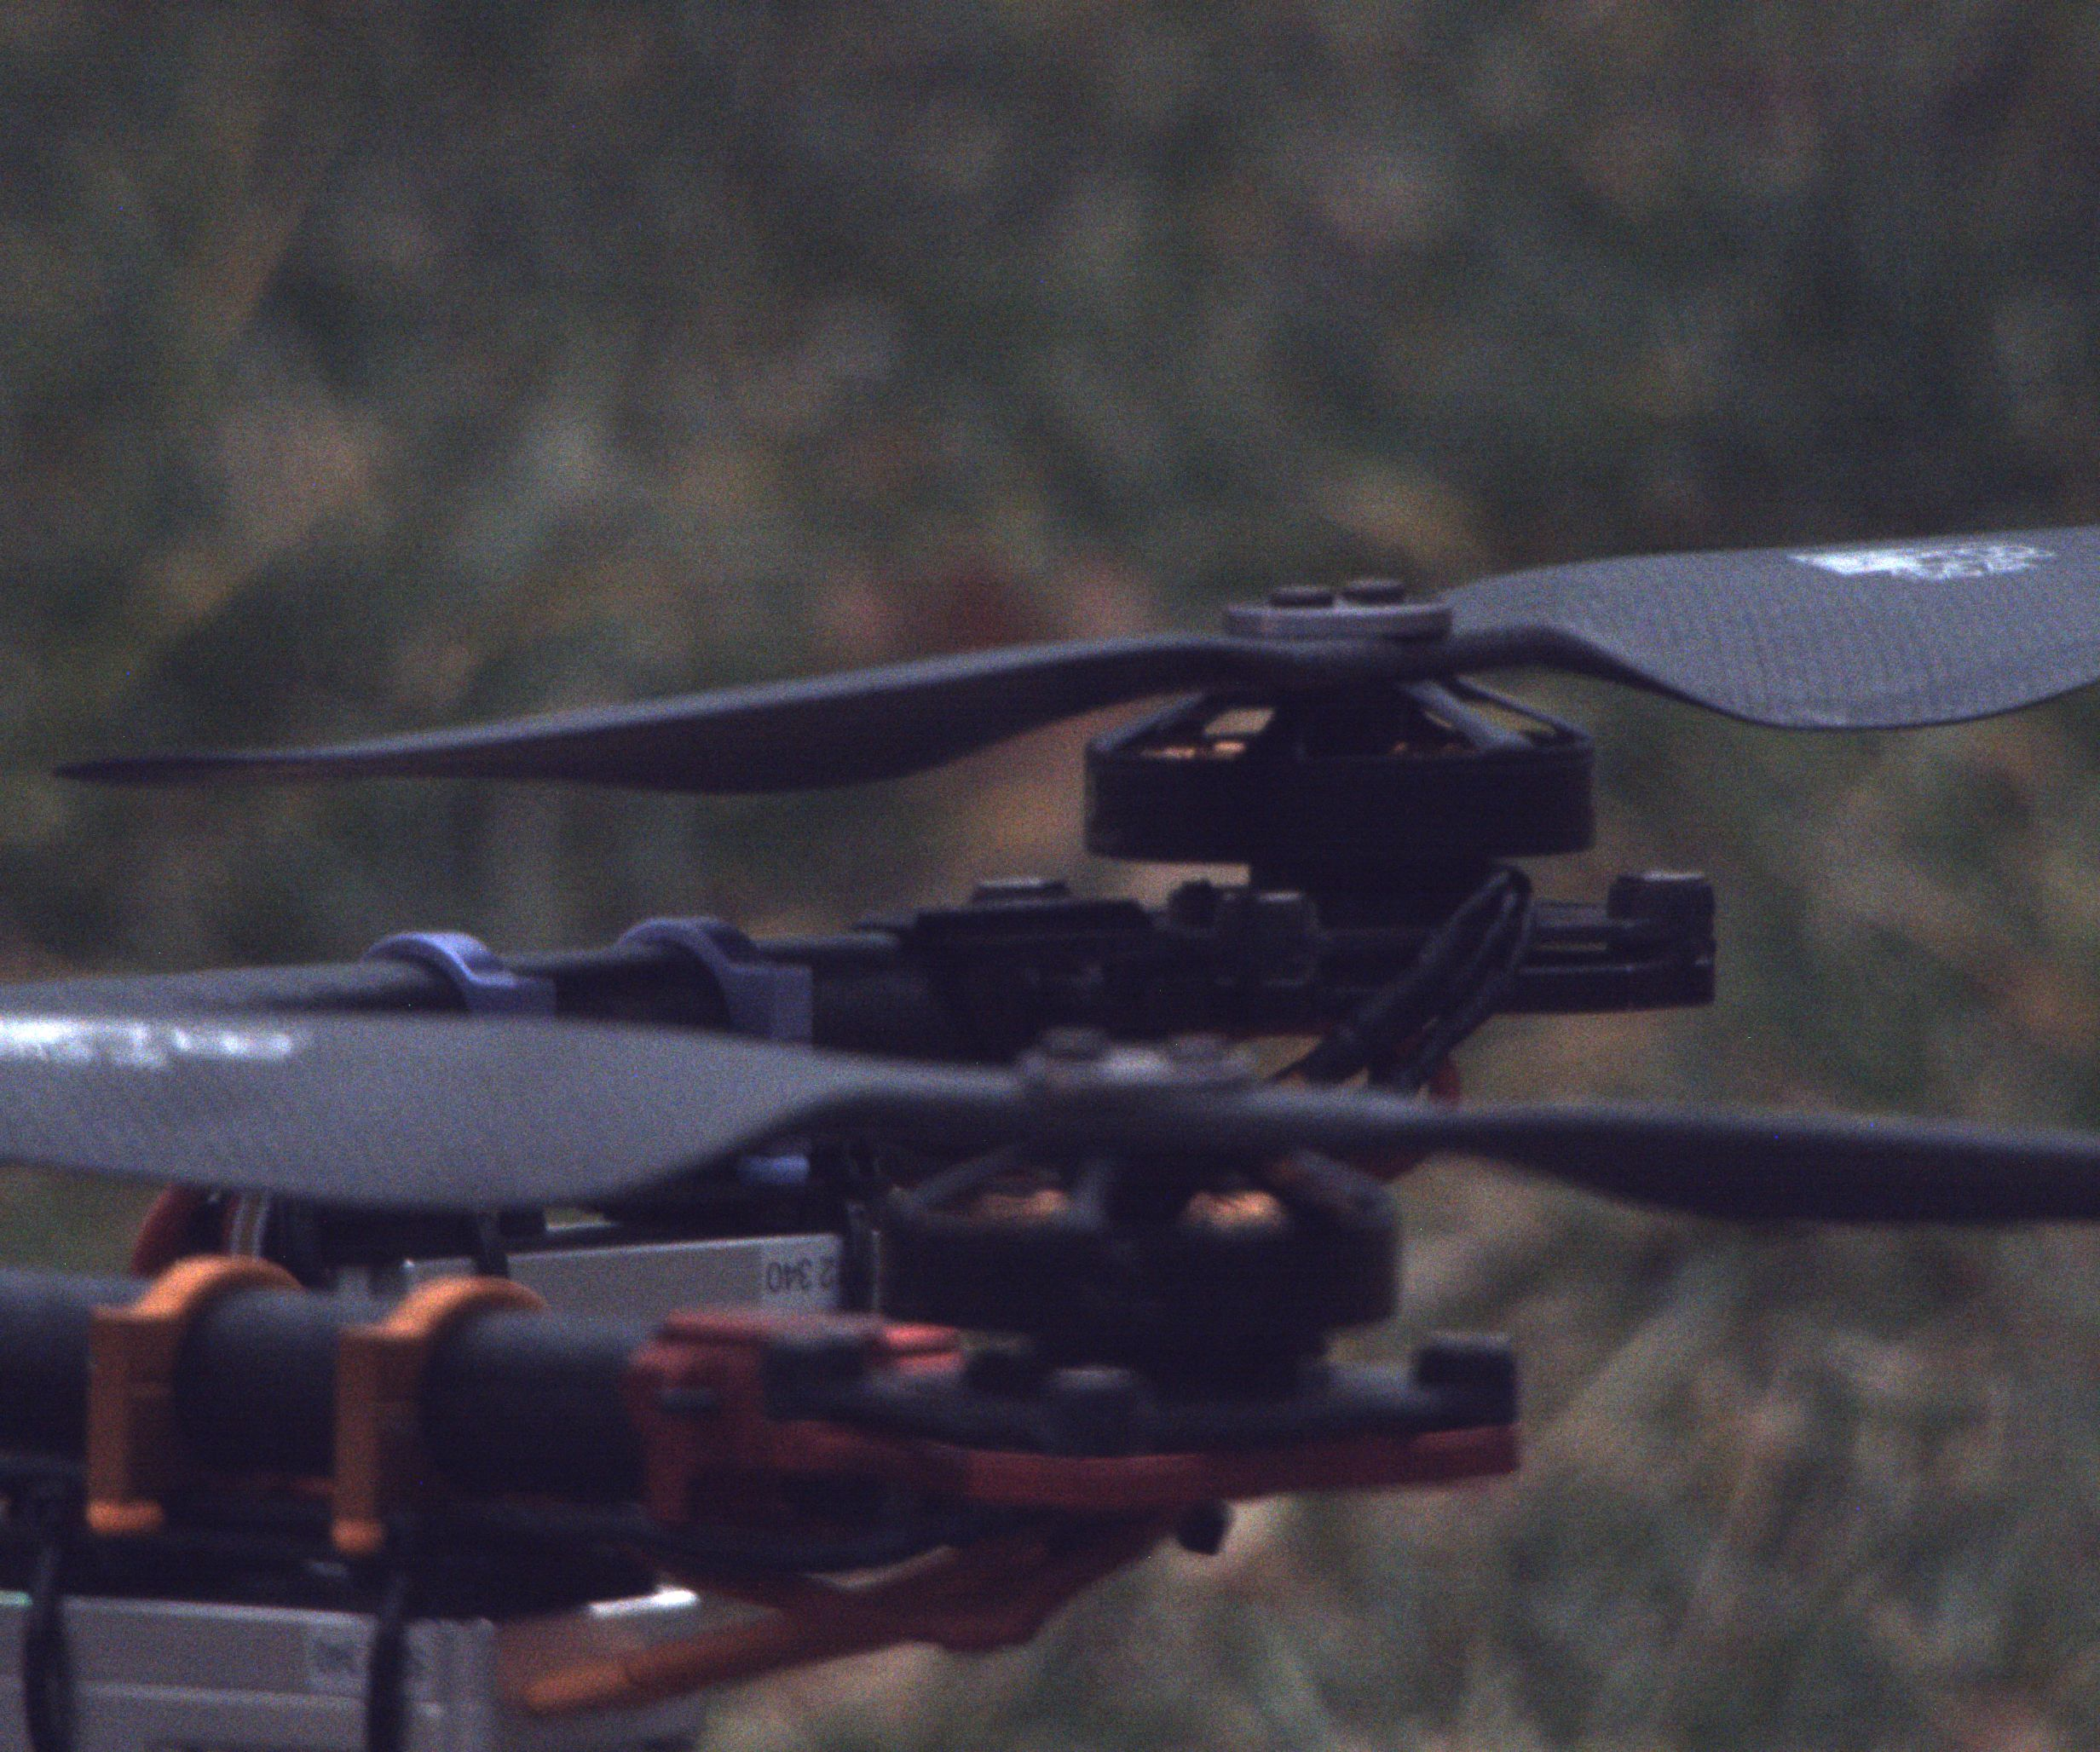Drohne: (7, 535, 2100, 1749)
